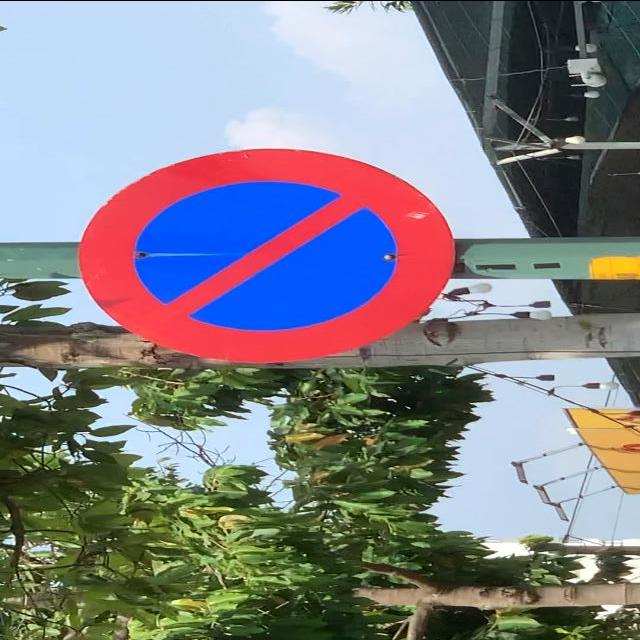P-131a: (76, 149, 457, 360)
